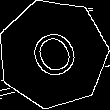O_SE: (22, 21, 85, 87)
